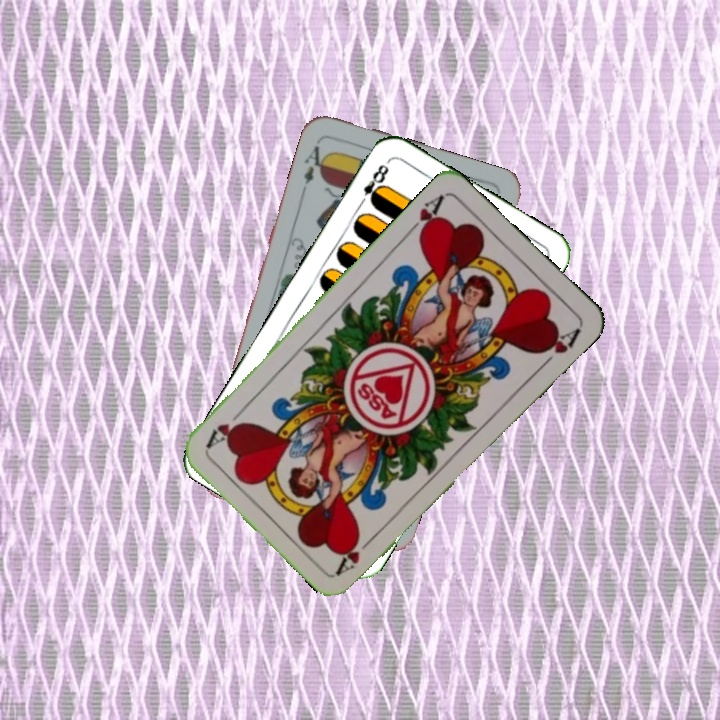E8: (354, 160, 392, 210)
EA: (298, 136, 331, 194)
HA: (401, 190, 446, 243), (332, 530, 379, 577)
